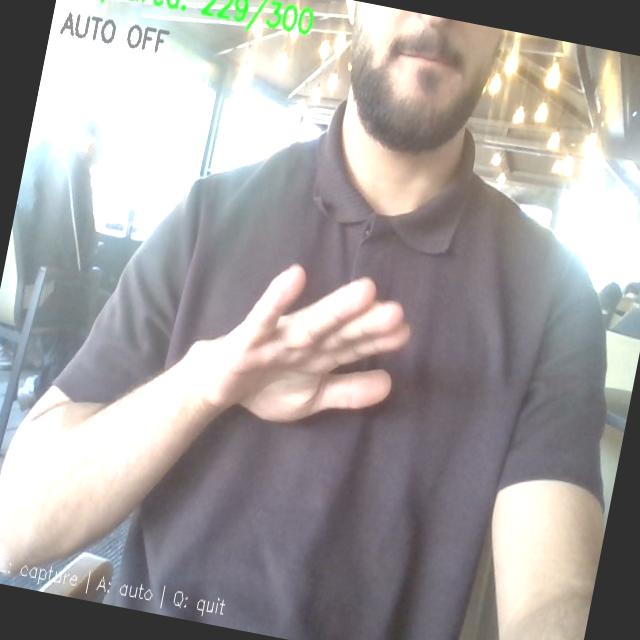Hand: (187, 265, 409, 421)
